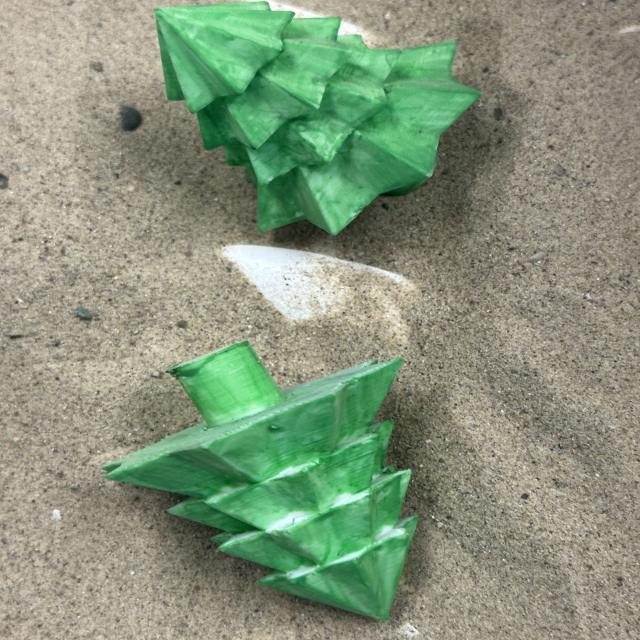tree: (101, 340, 420, 622), (152, 0, 482, 236)
